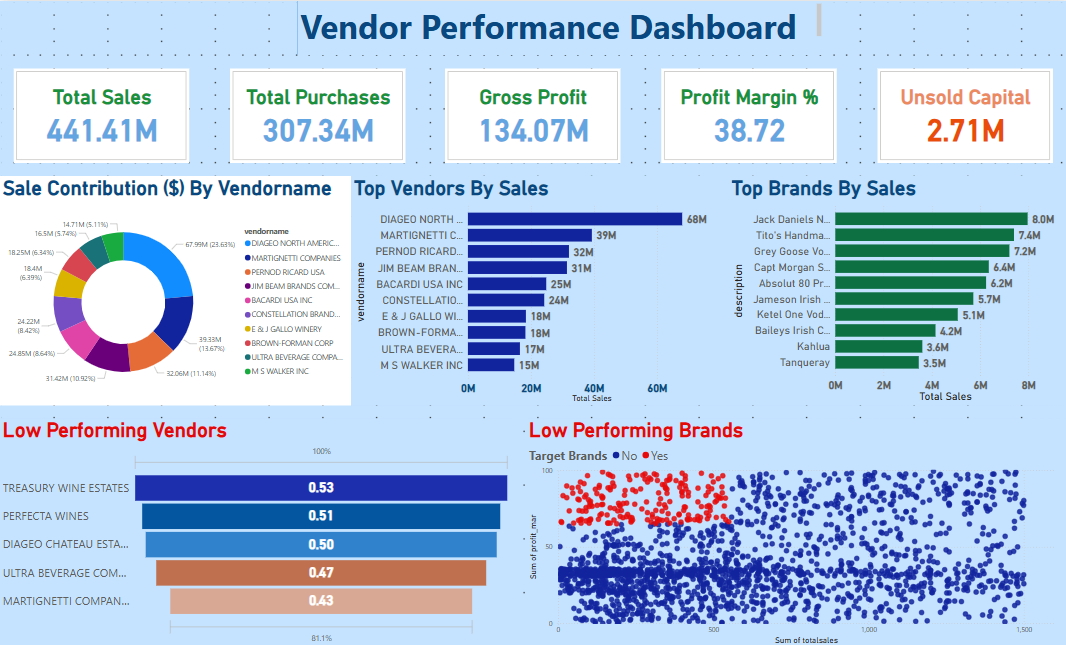

The dashboard page shown, as its layout file describes it:
{"tool":"powerbi","page":{"name":"Page 1","canvas":[1900,1150],"ordinal":0},"visuals":[{"type":"shape","box":[528,0,936,96],"z":0},{"type":"cardVisual","fields":{"Data":["BlankTable.Total Sales"]},"box":[24,120,312,168],"z":1000},{"type":"cardVisual","fields":{"Data":["BlankTable.Total Purchases"]},"box":[408,120,312,168],"z":2000},{"type":"cardVisual","fields":{"Data":["BlankTable.Gross Profit"]},"box":[792,120,312,168],"z":3000},{"type":"cardVisual","fields":{"Data":["BlankTable.Profit Margin"]},"box":[1176,120,312,168],"z":4000},{"type":"cardVisual","fields":{"Data":["BlankTable.Unsold Capital"]},"box":[1560,120,312,168],"z":5000},{"type":"clusteredBarChart","title":"Top Brands By Sales","fields":{"Y":["BlankTable.Total Sales"],"Category":["final_sale_table_export(bi).description"]},"box":[1296,312,600,408],"z":6000},{"type":"clusteredBarChart","title":"Top Vendors By Sales","fields":{"Category":["final_sale_table_export(bi).vendorname"],"Y":["BlankTable.Total Sales"]},"box":[624,312,672,408],"z":7000},{"type":"scatterChart","title":"Low Performing Brands","fields":{"Category":["Brand Performance.description"],"X":["Sum(Brand Performance.totalsales)"],"Y":["Sum(Brand Performance.profit_mar)"],"Series":["Brand Performance.Target Brands"]},"box":[936,742,960,408],"z":8000},{"type":"funnel","title":"Low Performing Vendors","fields":{"Category":["final_sale_table_export(bi).vendorname"],"Y":["BlankTable.avg"]},"box":[0,742,912,408],"z":9000},{"type":"donutChart","title":"Sale Contribution ($) By Vendorname","fields":{"Category":["final_sale_table_export(bi).vendorname"],"Y":["BlankTable.Total Sales"]},"box":[0,312,624,408],"z":10000},{"type":"textbox","box":[528,0,936,96],"z":11000}]}

Visuals, with their boxes in screenshot pixels (x1, y1, x2, y2), scaled from the page's 1900x1150 canvas onto the 1066x645 screenshot:
shape: rect(296, 0, 821, 54)
cardVisual - BlankTable.Total Sales: rect(13, 67, 189, 162)
cardVisual - BlankTable.Total Purchases: rect(229, 67, 404, 162)
cardVisual - BlankTable.Gross Profit: rect(444, 67, 619, 162)
cardVisual - BlankTable.Profit Margin: rect(660, 67, 835, 162)
cardVisual - BlankTable.Unsold Capital: rect(875, 67, 1050, 162)
"Top Brands By Sales" clusteredBarChart: rect(727, 175, 1064, 404)
"Top Vendors By Sales" clusteredBarChart: rect(350, 175, 727, 404)
"Low Performing Brands" scatterChart: rect(525, 416, 1064, 644)
"Low Performing Vendors" funnel: rect(0, 416, 512, 644)
"Sale Contribution ($) By Vendorname" donutChart: rect(0, 175, 350, 404)
textbox: rect(296, 0, 821, 54)
